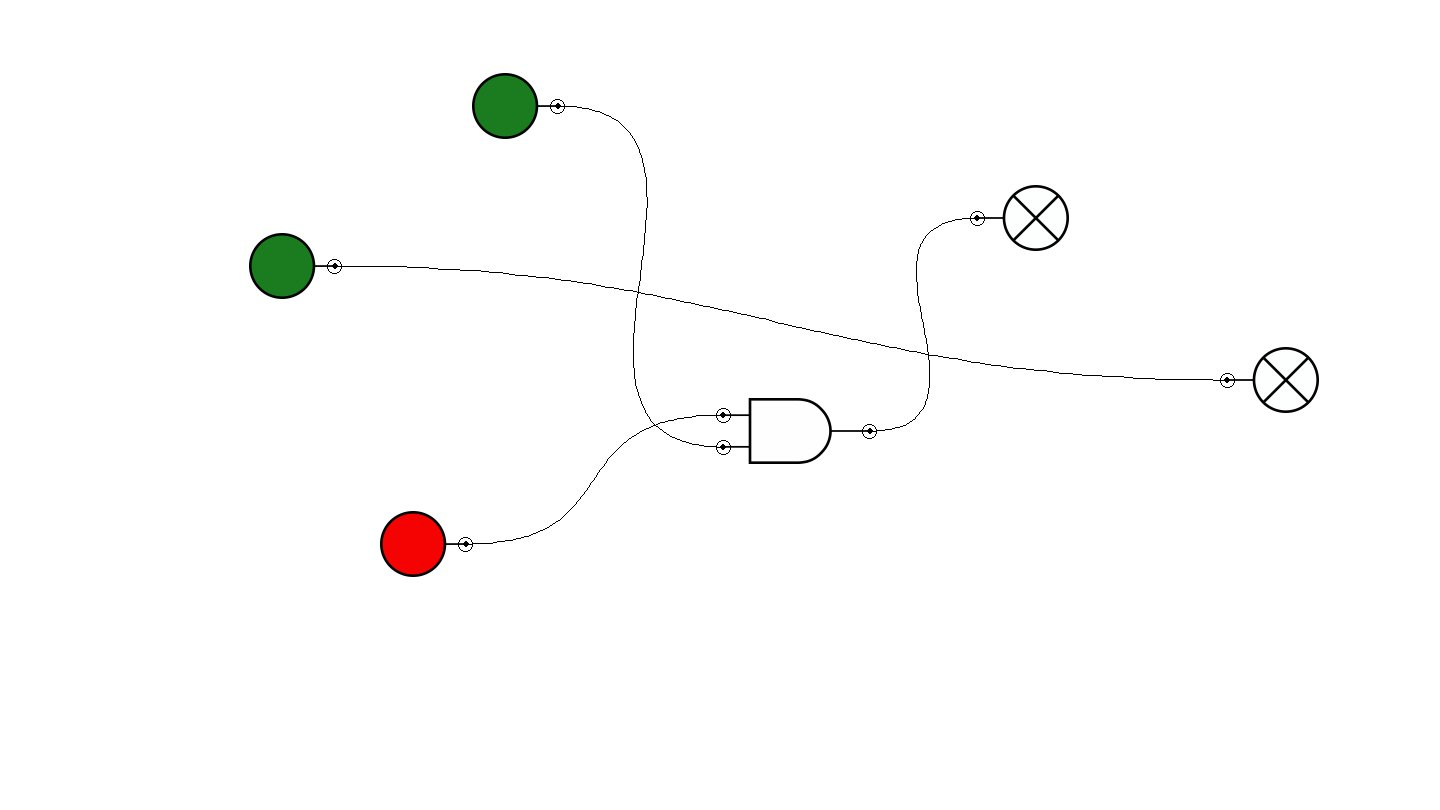and: (716, 398, 877, 464)
bulb: (1220, 347, 1319, 413), (970, 185, 1069, 251)
switch_False: (380, 511, 473, 577)
switch_True: (472, 73, 565, 139), (249, 233, 342, 299)
